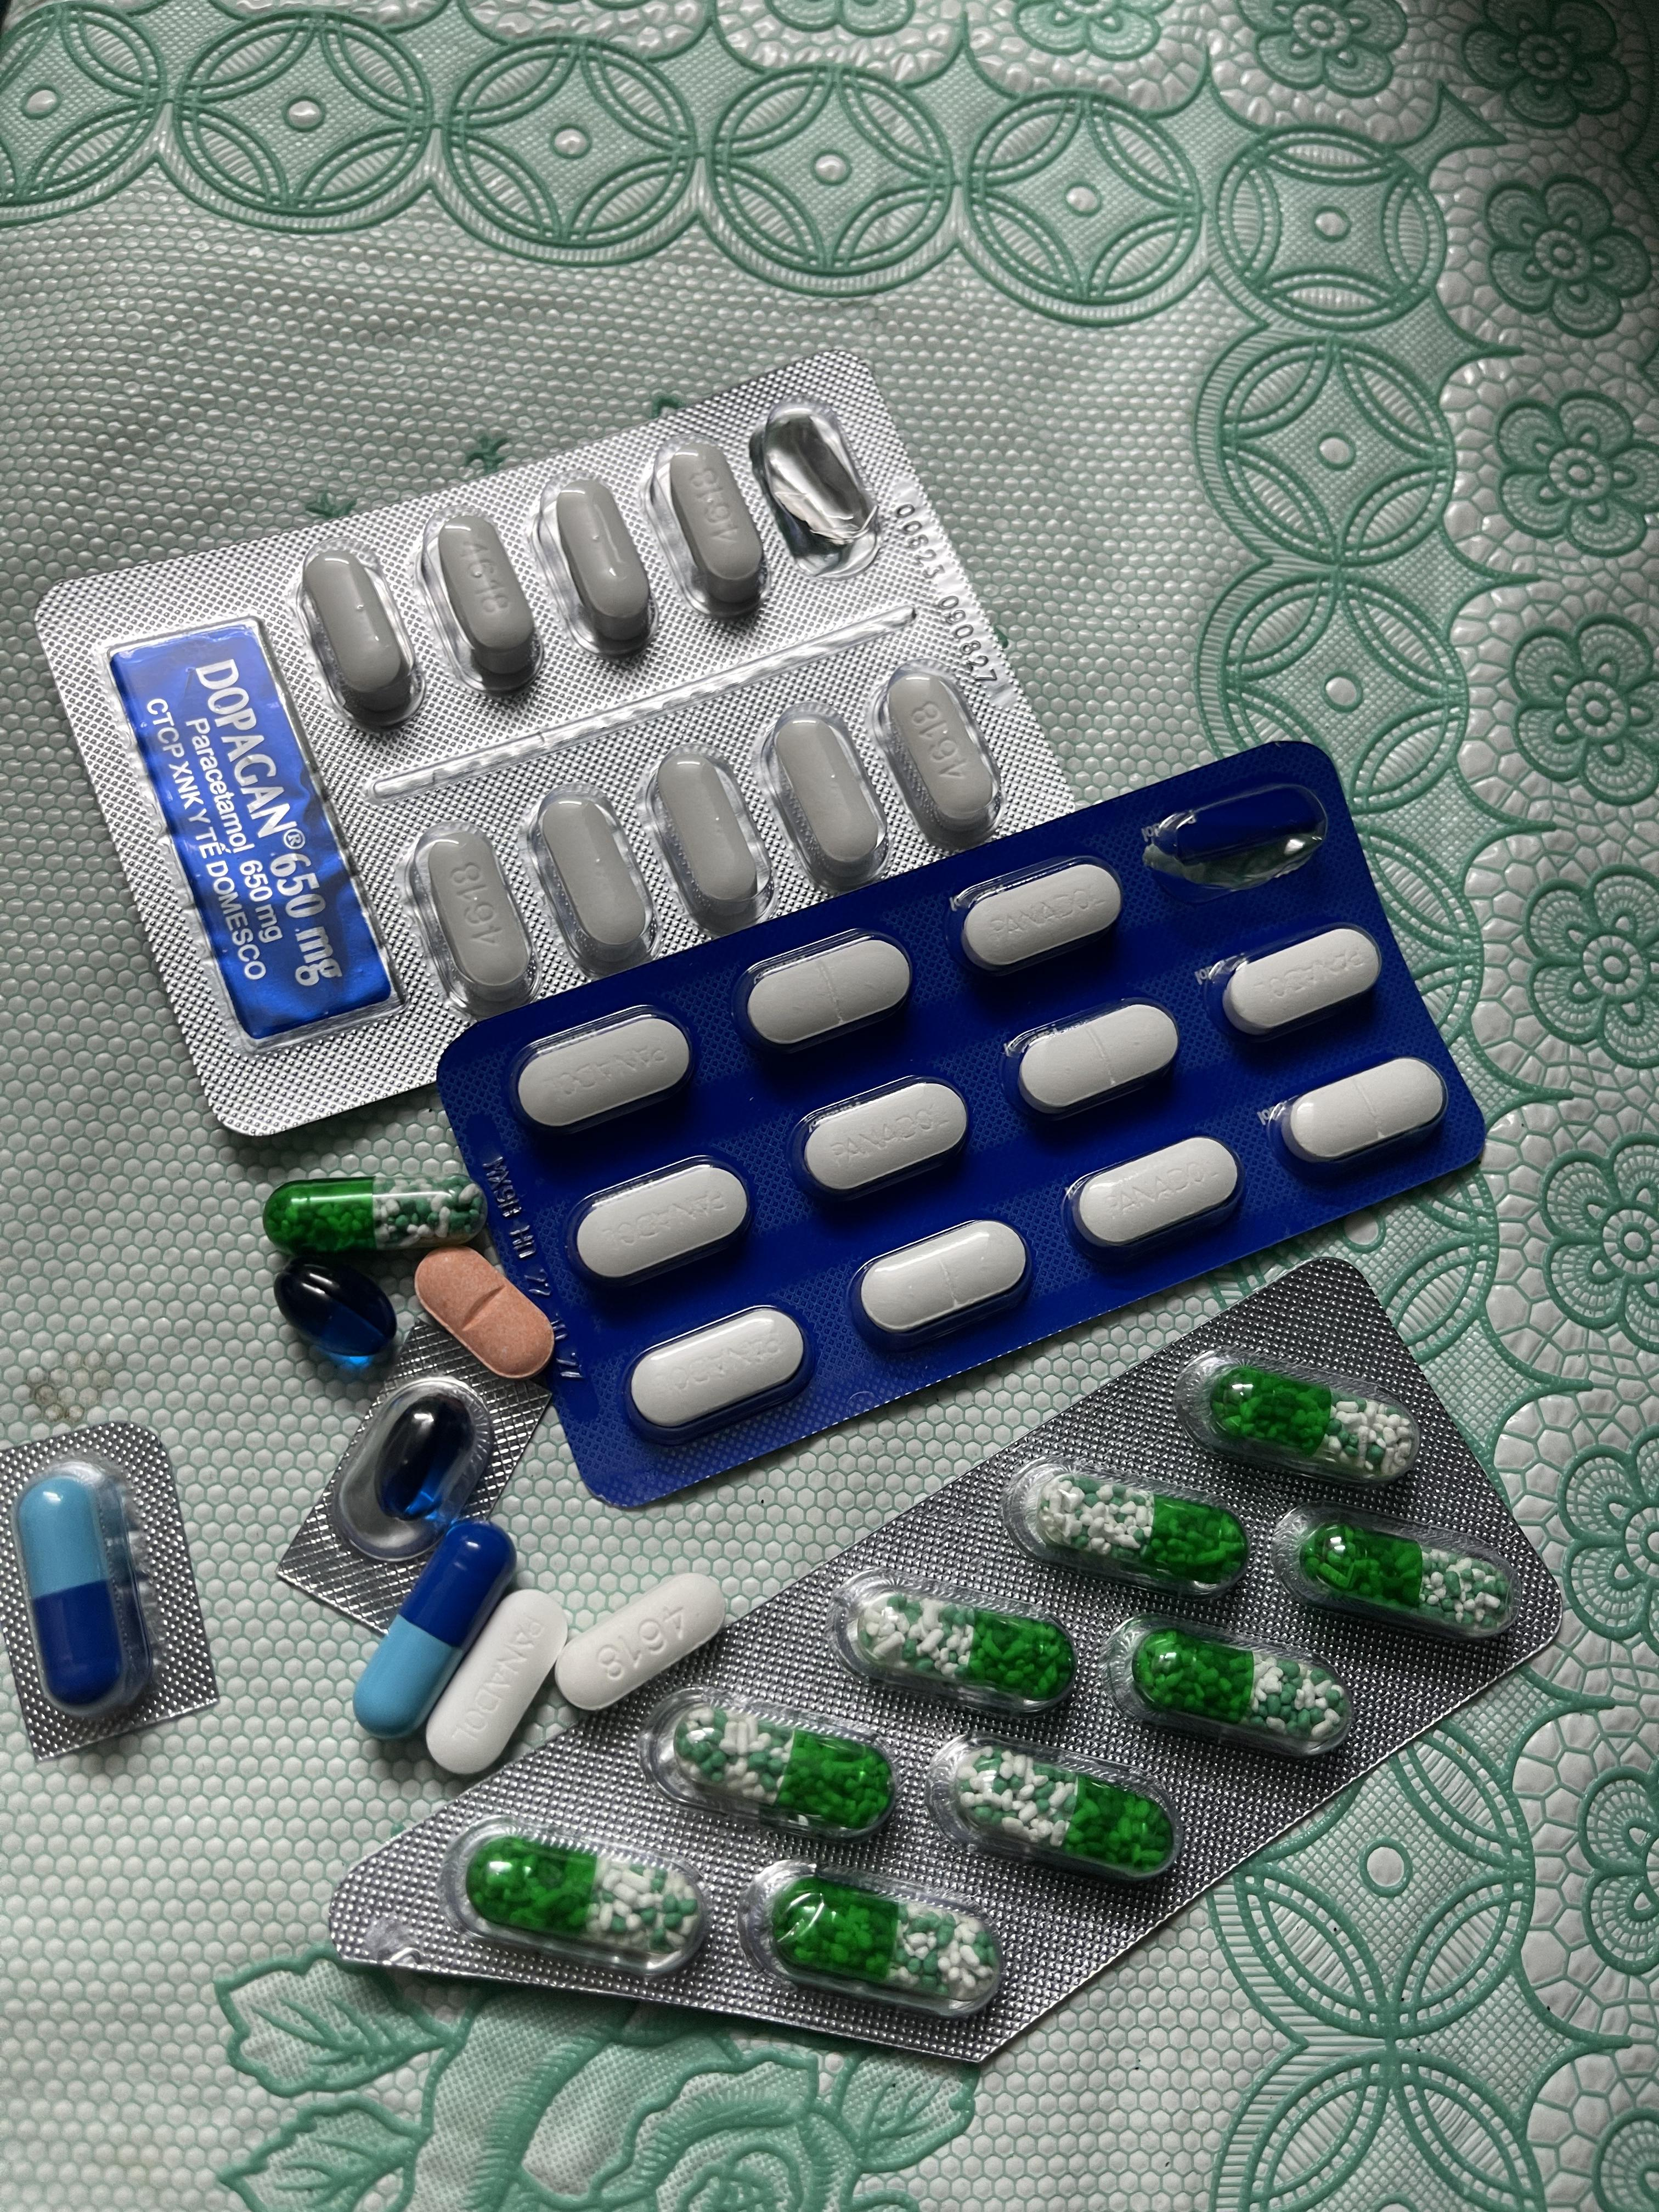Lincomyxin_500mg: (274, 1258, 399, 1366), (378, 1404, 469, 1519)
Loratadine_10mg: (413, 1249, 554, 1381)
Paracetamol_350mg: (423, 1590, 568, 1777), (624, 1305, 816, 1437), (568, 1155, 753, 1285), (739, 928, 915, 1061), (796, 1076, 978, 1204), (1274, 1057, 1455, 1177), (854, 1217, 1033, 1334), (514, 1015, 690, 1132), (1009, 1000, 1175, 1123), (955, 853, 1119, 975), (1079, 1137, 1237, 1247), (1225, 928, 1385, 1029)
Paracetamol_500mg: (401, 820, 538, 1012), (523, 782, 660, 970), (640, 744, 775, 934), (758, 704, 892, 892), (558, 1569, 727, 1712), (296, 542, 423, 728), (870, 662, 997, 848), (416, 505, 540, 695), (647, 432, 772, 618), (535, 475, 657, 660)
Paracetamol_650mg: (467, 1839, 697, 1959), (955, 1747, 1152, 1879), (676, 1707, 889, 1829), (765, 1881, 990, 1996), (852, 1583, 1070, 1700), (1209, 1369, 1417, 1480), (1298, 1521, 1507, 1629), (1138, 1635, 1340, 1745), (1047, 1480, 1234, 1585), (263, 1174, 483, 1251)
pill: (14, 1461, 150, 1719)
